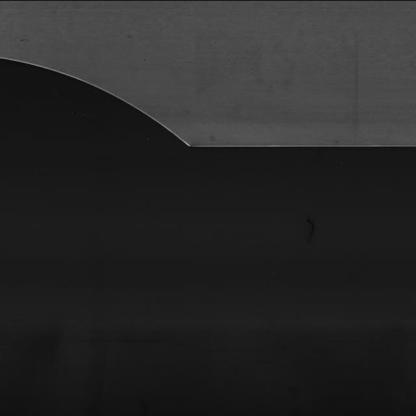crescent_gap: (0, 43, 197, 178)
